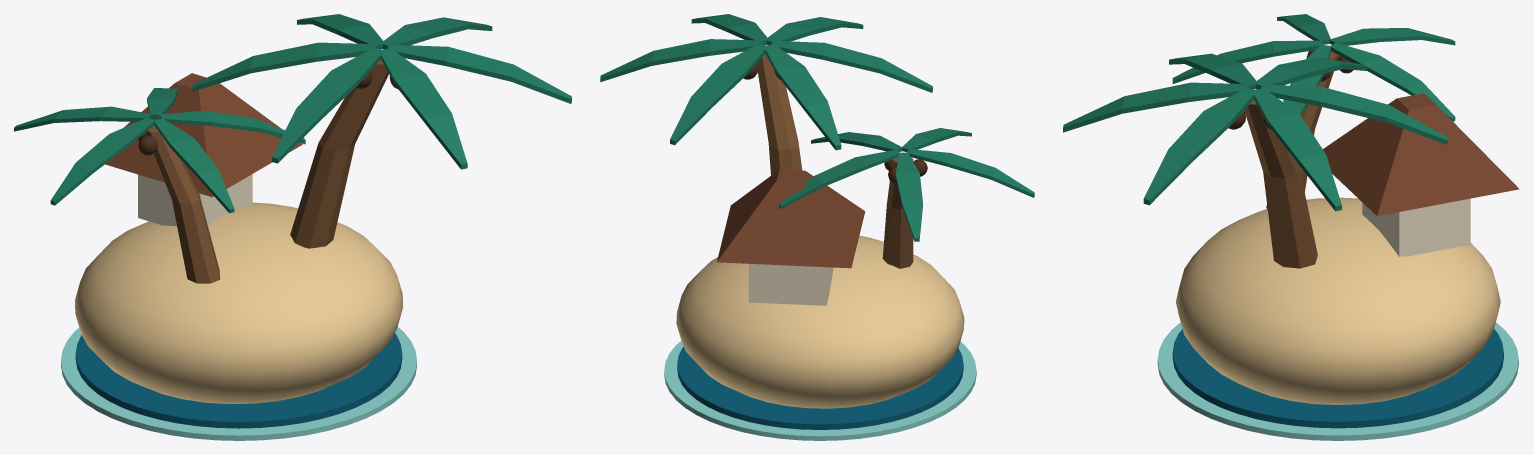
The model's file is artifact.glb.
The picture shows the model from 3 angles, left to right: view 1: azimuth 30°, elevation 25°; view 2: azimuth 150°, elevation 25°; view 3: azimuth 270°, elevation 25°; orthographic projection. The views are drawn at different scales.
Parts seen in each view (by area): view 1: SandCay, LagoonDisc, HutRoof, PalmTallTrunk, ReefFlat, PalmShortTrunk, palm1.fronds.004, palm1.fronds.005, PalmTallFrond, palm1.fronds.003, HutWalls, palm2.fronds.001 (+6 smaller); view 2: SandCay, HutRoof, LagoonDisc, ReefFlat, HutWalls, PalmTallTrunk, palm1.fronds.002, palm1.fronds.003, palm1.fronds.004, palm1.fronds.001, PalmShortTrunk, PalmShortFrond (+6 smaller); view 3: SandCay, HutRoof, LagoonDisc, ReefFlat, PalmTallTrunk, HutWalls, PalmTallFrond, palm1.fronds.001, palm1.fronds.002, palm1.fronds.005, palm2.fronds.004, palm1.fronds.003 (+6 smaller).
Part boxes in pixels (x1,y1,x2,y2): SandCay: (75, 202, 403, 404); LagoonDisc: (75, 333, 402, 428); HutRoof: (105, 73, 302, 197); PalmTallTrunk: (290, 59, 388, 248); ReefFlat: (61, 327, 416, 440); PalmShortTrunk: (145, 125, 220, 283); palm1.fronds.004: (272, 47, 383, 163); palm1.fronds.005: (379, 48, 467, 169); PalmTallFrond: (387, 44, 571, 103); palm1.fronds.003: (192, 42, 376, 91); HutWalls: (138, 174, 252, 226); palm2.fronds.001: (50, 117, 154, 205); SandCay: (676, 235, 964, 408); HutRoof: (717, 169, 865, 268); LagoonDisc: (677, 346, 963, 429); ReefFlat: (664, 341, 976, 440); HutWalls: (748, 263, 833, 305); PalmTallTrunk: (757, 54, 802, 175); palm1.fronds.002: (670, 43, 767, 144); palm1.fronds.003: (763, 44, 841, 150); palm1.fronds.004: (771, 40, 932, 92); palm1.fronds.001: (600, 39, 761, 82); PalmShortTrunk: (882, 157, 913, 268); PalmShortFrond: (895, 152, 922, 241); SandCay: (1176, 197, 1500, 404); HutRoof: (1323, 93, 1519, 216); LagoonDisc: (1172, 329, 1503, 428); ReefFlat: (1157, 322, 1518, 440); PalmTallTrunk: (1244, 100, 1317, 268); HutWalls: (1362, 198, 1470, 256); PalmTallFrond: (1143, 87, 1256, 205); palm1.fronds.001: (1252, 88, 1341, 211); palm1.fronds.002: (1261, 84, 1447, 144); palm1.fronds.005: (1063, 82, 1249, 132); palm2.fronds.004: (1330, 42, 1455, 121); palm1.fronds.003: (1253, 57, 1366, 89).
Size of the model in its own units: 1.82 by 1.25 by 1.52.
